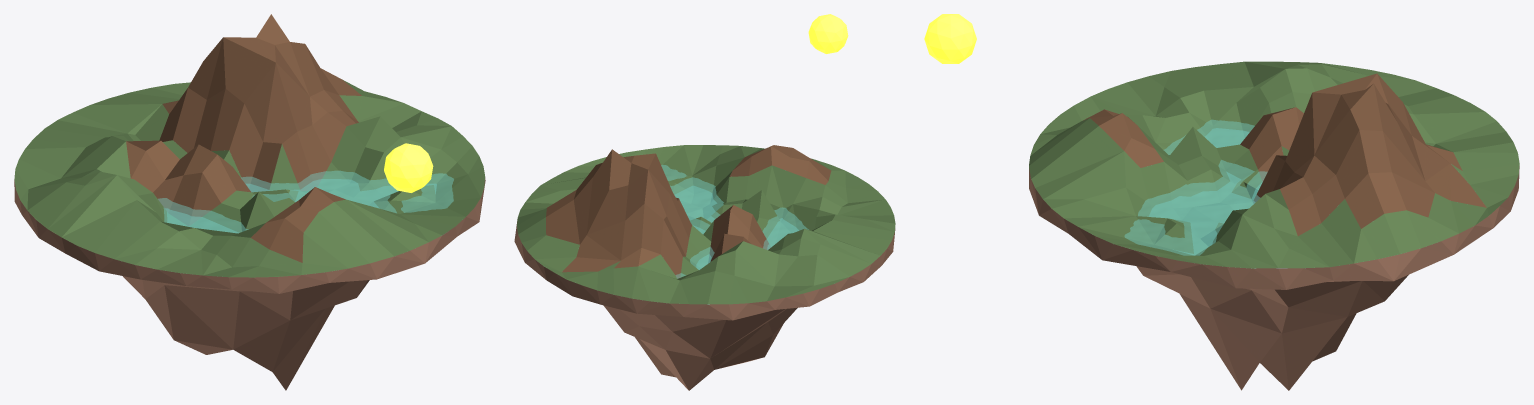
3 views of the same model, side by side, from view 1: azimuth 30°, elevation 25°; view 2: azimuth 150°, elevation 25°; view 3: azimuth 270°, elevation 25° (orthographic). The views are drawn at different scales.
Parts seen in each view (by area): view 1: Island, Water, Sun; view 2: Island, Water, Sun; view 3: Island, Water, Sun.
Boxes of the visible parts, box(x1,y1,x2,y2) form: Island: box(14, 14, 485, 390); Water: box(158, 171, 453, 233); Sun: box(384, 143, 433, 192); Island: box(514, 145, 895, 390); Water: box(661, 165, 808, 304); Sun: box(808, 14, 848, 53); Island: box(1029, 61, 1519, 390); Water: box(1124, 120, 1305, 268); Sun: box(924, 14, 976, 63).
Size of the model in its own units: 10.27 by 8.45 by 12.44.
Materials: 5 (5 with a texture image).
